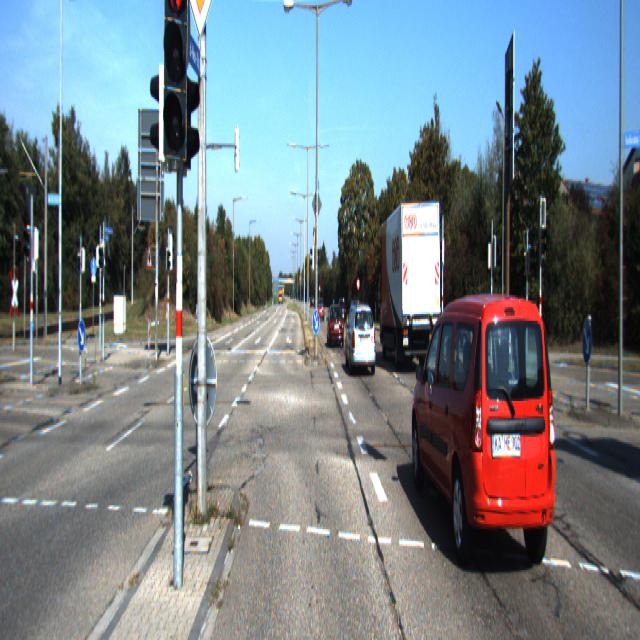Car: (410, 282, 559, 592), (377, 196, 441, 374), (344, 302, 376, 379), (461, 302, 504, 355), (327, 304, 344, 348)
